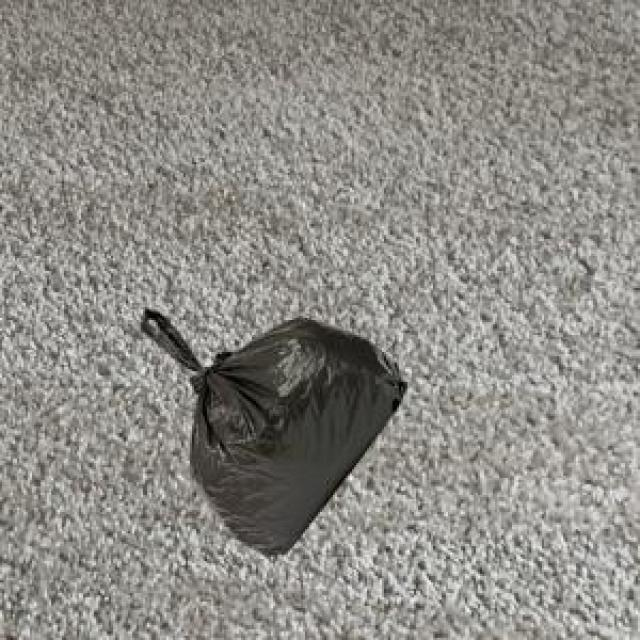waste: (142, 310, 406, 554)
